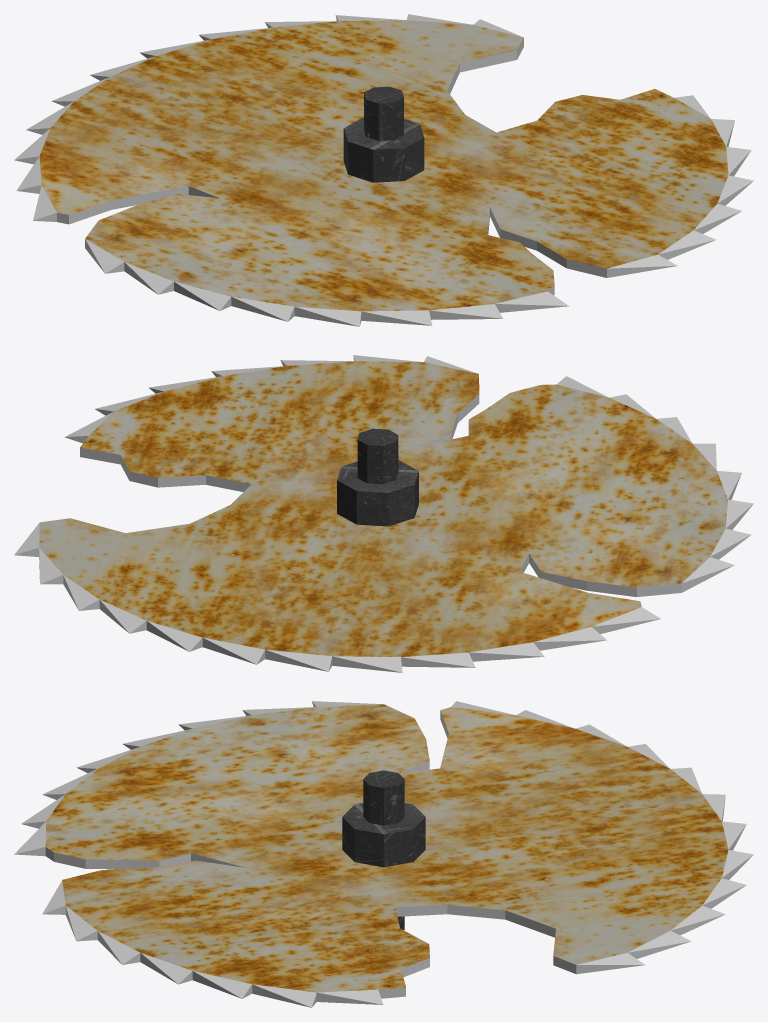
Rendered from brokensaw_v2.fbx.
3 views of the same model, one above another, from view 1: azimuth 30°, elevation 25°; view 2: azimuth 150°, elevation 25°; view 3: azimuth 270°, elevation 25° (orthographic).
Visible parts, largest first — view 1: brokensaw; view 2: brokensaw; view 3: brokensaw.
Boxes of the visible parts, x1,y1,x2,y2 form: brokensaw: (14,14,753,326); brokensaw: (14,355,753,672); brokensaw: (14,701,753,1007).
Bounding box in the file's own units: 140 × 32 × 143.
